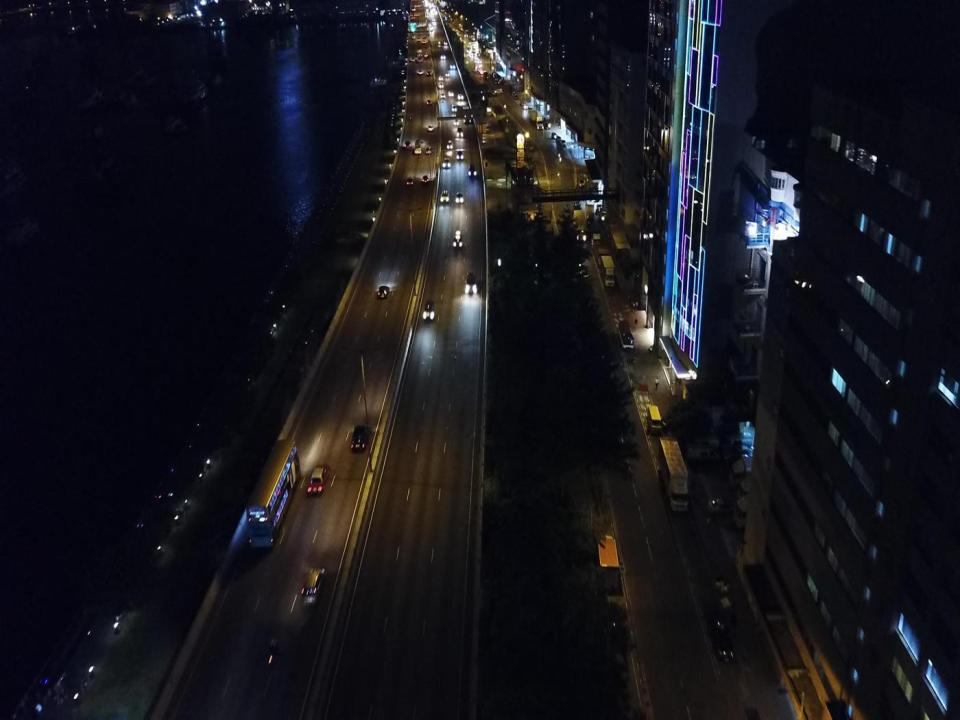bus: (246, 438, 301, 548), (414, 139, 422, 153), (417, 49, 422, 62)
car: (706, 613, 734, 661), (302, 567, 325, 605), (308, 463, 330, 495), (351, 423, 370, 452), (708, 496, 735, 515), (424, 298, 435, 320), (466, 270, 476, 294), (453, 229, 462, 248), (377, 286, 389, 299), (441, 190, 448, 203), (443, 157, 450, 169), (406, 176, 414, 186), (404, 141, 412, 149), (573, 202, 581, 210), (456, 151, 463, 160), (456, 192, 462, 202), (446, 140, 452, 149), (457, 127, 462, 137), (422, 176, 428, 184), (458, 93, 464, 100), (551, 132, 557, 139), (426, 146, 431, 154), (426, 100, 432, 106), (448, 90, 454, 96), (428, 125, 433, 132), (451, 105, 456, 112), (494, 89, 502, 93), (450, 63, 455, 69), (439, 81, 443, 88), (441, 54, 446, 59), (454, 119, 458, 125), (441, 93, 445, 98), (439, 75, 443, 80), (514, 95, 518, 100), (519, 101, 524, 105), (524, 104, 528, 109), (412, 34, 416, 38), (424, 53, 428, 57), (418, 37, 421, 42), (446, 72, 449, 77), (512, 91, 515, 96), (423, 40, 426, 44), (444, 40, 447, 44), (411, 58, 415, 61), (419, 70, 422, 74), (423, 35, 425, 38)
truck: (658, 436, 688, 512), (734, 494, 794, 528), (730, 454, 785, 489), (737, 477, 794, 502), (599, 256, 615, 286), (618, 320, 634, 349), (592, 241, 609, 266), (573, 210, 586, 240), (590, 222, 601, 249), (462, 105, 472, 123), (586, 204, 594, 220), (536, 116, 543, 129), (530, 109, 538, 120), (483, 70, 488, 80)
van: (688, 444, 718, 462), (647, 406, 662, 435), (691, 437, 719, 451), (469, 164, 475, 176), (427, 70, 431, 76), (528, 107, 533, 111)
